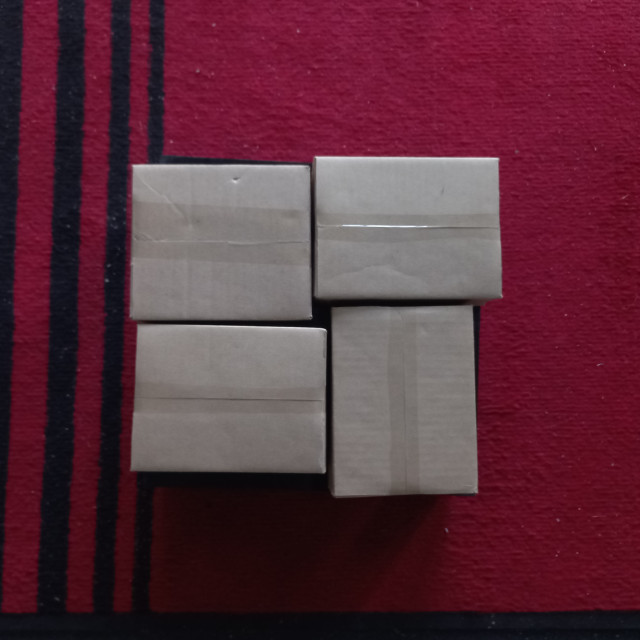box: (123, 160, 316, 326), (126, 321, 330, 477), (308, 151, 506, 307), (326, 301, 480, 500)
